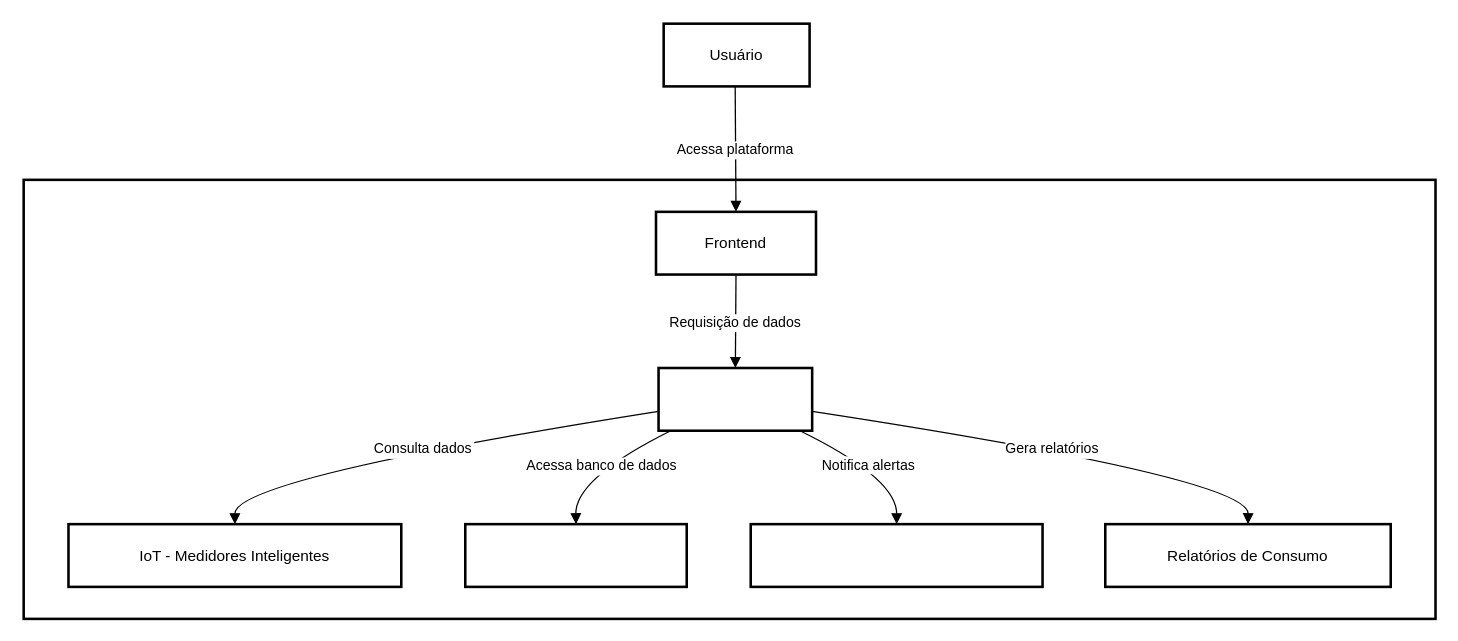
This 1458x641 diagram has some shape labels left out. Here are the shapes that lost their labels. From the top down, the centre of each, then its label:
(735,398): Backend
(575,555): Banco de Dados
(896,555): Serviço de Notificações
